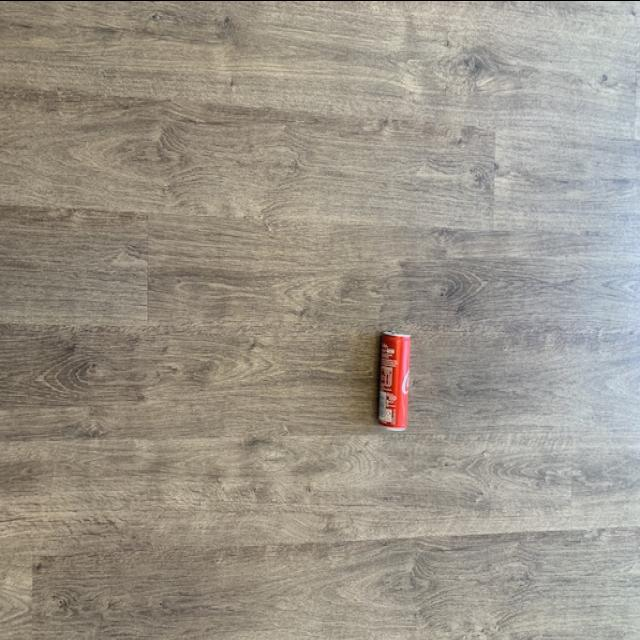litter: (368, 330, 428, 442)
